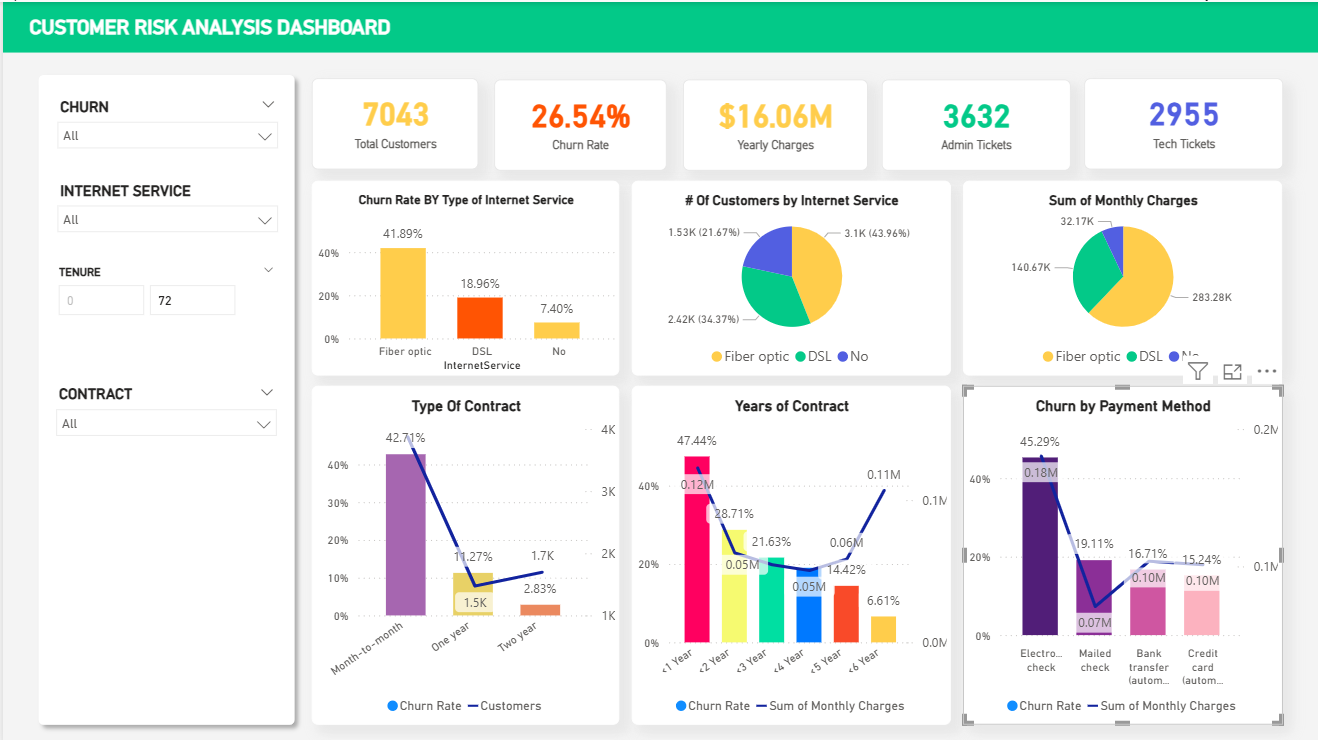

This screenshot's page, from the dashboard's own definition file:
{"tool":"powerbi","page":{"name":"Customer Risk Analysis","canvas":[1280,720],"ordinal":0},"visuals":[{"type":"shape","box":[0,0,1280,49],"z":0},{"type":"textbox","box":[21,8,438,33],"z":1000},{"type":"shape","box":[25,61,265,645],"z":2000},{"type":"slicer","fields":{"Values":["Churn.Churn"]},"box":[42,82,233,81],"z":3000},{"type":"slicer","fields":{"Values":["Churn.InternetService"]},"box":[42,163,233,81],"z":4000},{"type":"slicer","fields":{"Values":["Churn.tenure"]},"box":[41,244,233,97],"z":5000},{"type":"slicer","fields":{"Values":["Churn.Contract"]},"box":[41,360,233,81],"z":6000},{"type":"card","fields":{"Values":["CountNonNull(01 Churn-Dataset.customerID)"]},"box":[298,74,161,88],"z":7000},{"type":"card","fields":{"Values":["Churn.% Churn Rate"]},"box":[474,75,166,88],"z":8000},{"type":"card","fields":{"Values":["Sum(Churn.TotalCharges)"]},"box":[656,75,178,88],"z":9000},{"type":"card","fields":{"Values":["Sum(Churn.numAdminTickets)"]},"box":[848,75,182,88],"z":10000},{"type":"card","fields":{"Values":["Sum(Churn.numTechTickets)"]},"box":[1043,74,192,88],"z":11000},{"type":"columnChart","title":"Churn Rate BY Type of Internet Service","fields":{"Y":["Churn.% Churn Rate"],"Category":["Churn.InternetService"]},"box":[298,172,297,188],"z":12000},{"type":"pieChart","title":"# Of Customers by Internet Service","fields":{"Y":["CountNonNull(Churn.customerID)"],"Category":["Churn.InternetService"]},"box":[607,172,308,188],"z":13000},{"type":"pieChart","title":"Sum of Monthly Charges","fields":{"Category":["Churn.InternetService"],"Y":["Sum(Churn.MonthlyCharges)"]},"box":[927,172,308,188],"z":14000},{"type":"lineStackedColumnComboChart","title":"Type Of Contract","fields":{"Y2":["CountNonNull(Churn.customerID)"],"Y":["Churn.% Churn Rate"],"Category":["Churn.Contract"]},"box":[298,370,297,327],"z":15000},{"type":"lineStackedColumnComboChart","title":"Years of Contract","fields":{"Y":["Churn.% Churn Rate"],"Y2":["Sum(Churn.MonthlyCharges)"],"Category":["Churn.Tenure(in years)"]},"box":[607,370,308,327],"z":16000},{"type":"lineStackedColumnComboChart","title":"Churn by Payment Method","fields":{"Y":["Churn.% Churn Rate"],"Y2":["Sum(Churn.MonthlyCharges)"],"Category":["Churn.PaymentMethod"]},"box":[927,370,308,327],"z":17000}]}

Visuals, with their boxes in screenshot pixels (x1, y1, x2, y2), scaled from the page's 1280x720 canvas onto the 1318x740 screenshot:
shape: (0,0,1317,50)
textbox: (22,8,473,42)
shape: (26,63,299,726)
slicer - Churn.Churn: (43,84,283,168)
slicer - Churn.InternetService: (43,168,283,251)
slicer - Churn.tenure: (42,251,282,350)
slicer - Churn.Contract: (42,370,282,453)
card - CountNonNull(01 Churn-Dataset.customerID): (307,76,473,166)
card - Churn.% Churn Rate: (488,77,659,168)
card - Sum(Churn.TotalCharges): (675,77,859,168)
card - Sum(Churn.numAdminTickets): (873,77,1061,168)
card - Sum(Churn.numTechTickets): (1074,76,1272,166)
"Churn Rate BY Type of Internet Service" columnChart: (307,177,613,370)
"# Of Customers by Internet Service" pieChart: (625,177,942,370)
"Sum of Monthly Charges" pieChart: (955,177,1272,370)
"Type Of Contract" lineStackedColumnComboChart: (307,380,613,716)
"Years of Contract" lineStackedColumnComboChart: (625,380,942,716)
"Churn by Payment Method" lineStackedColumnComboChart: (955,380,1272,716)
